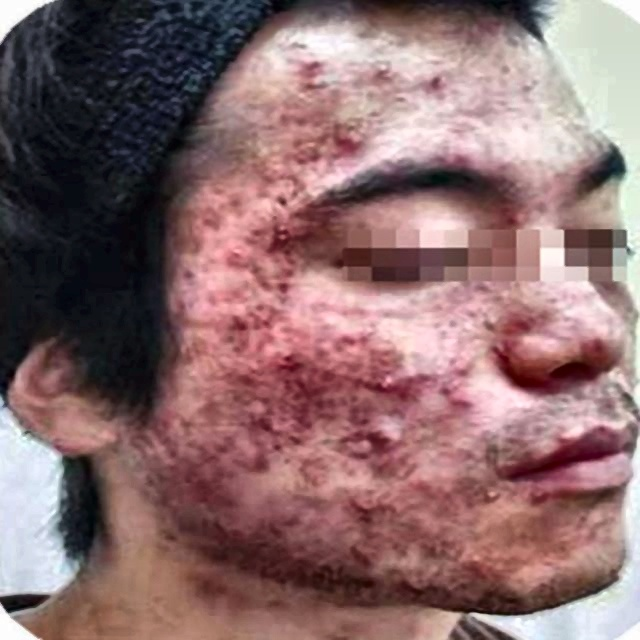nodule: (339, 488, 418, 524), (462, 537, 529, 578), (172, 466, 232, 511), (250, 334, 306, 382), (344, 405, 403, 445), (302, 354, 361, 394), (436, 367, 486, 412), (203, 231, 244, 279), (269, 506, 322, 543), (190, 428, 240, 467), (182, 566, 232, 605), (284, 398, 322, 449), (333, 435, 383, 473), (252, 218, 298, 259), (228, 404, 283, 438), (368, 448, 423, 482), (236, 436, 278, 478), (357, 367, 400, 407), (289, 52, 335, 87), (286, 136, 328, 173), (335, 319, 383, 351), (391, 357, 432, 394), (208, 513, 253, 545), (420, 532, 466, 563), (270, 100, 315, 131), (261, 266, 303, 299), (141, 442, 187, 472), (220, 181, 269, 208), (248, 151, 289, 183), (396, 569, 436, 601), (482, 337, 526, 365), (189, 196, 223, 231), (226, 313, 261, 347), (172, 337, 212, 366), (325, 126, 357, 162), (258, 559, 295, 590), (282, 174, 320, 204), (300, 455, 340, 483), (577, 332, 613, 363), (261, 187, 297, 216), (499, 312, 542, 336), (348, 534, 387, 559), (438, 145, 474, 172), (205, 286, 252, 306), (368, 60, 404, 86), (168, 296, 198, 325), (171, 264, 204, 290), (405, 473, 439, 498), (336, 298, 374, 320), (424, 73, 456, 99), (353, 565, 388, 588), (149, 409, 182, 433), (152, 526, 182, 552), (477, 486, 514, 507), (288, 546, 316, 572), (523, 484, 552, 509), (305, 293, 334, 317), (249, 313, 278, 336), (314, 312, 342, 332), (505, 210, 534, 228), (476, 314, 502, 333), (474, 278, 499, 296), (490, 158, 518, 173), (492, 288, 516, 305)
